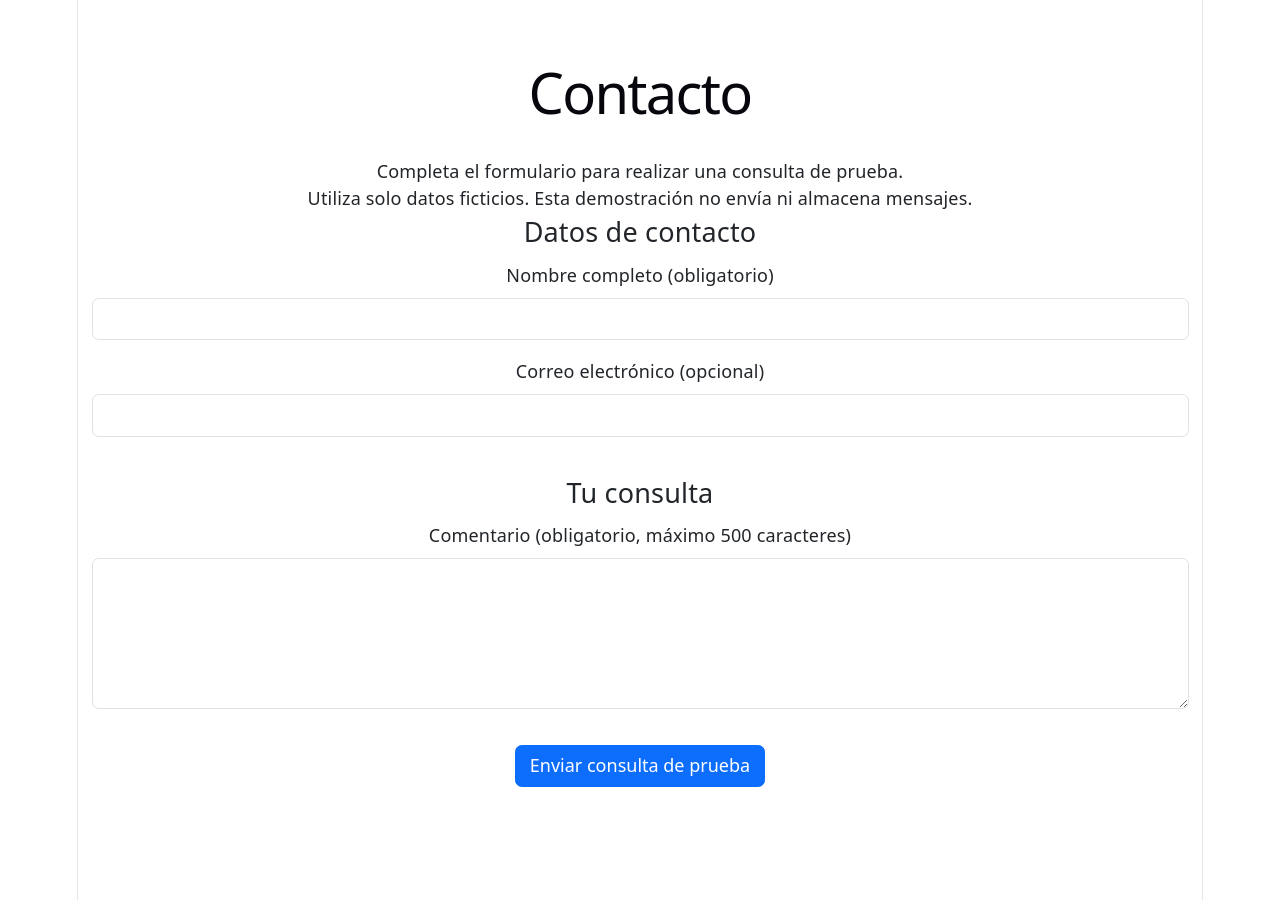
Test: Contacto › muestra errores al enviar vacíos los campos obligatorios
The width and height of the screenshot is (1280, 900).
Click the button "Enviar consulta de prueba" at x=640, y=766, box x1=515 y1=745 x2=765 y2=787
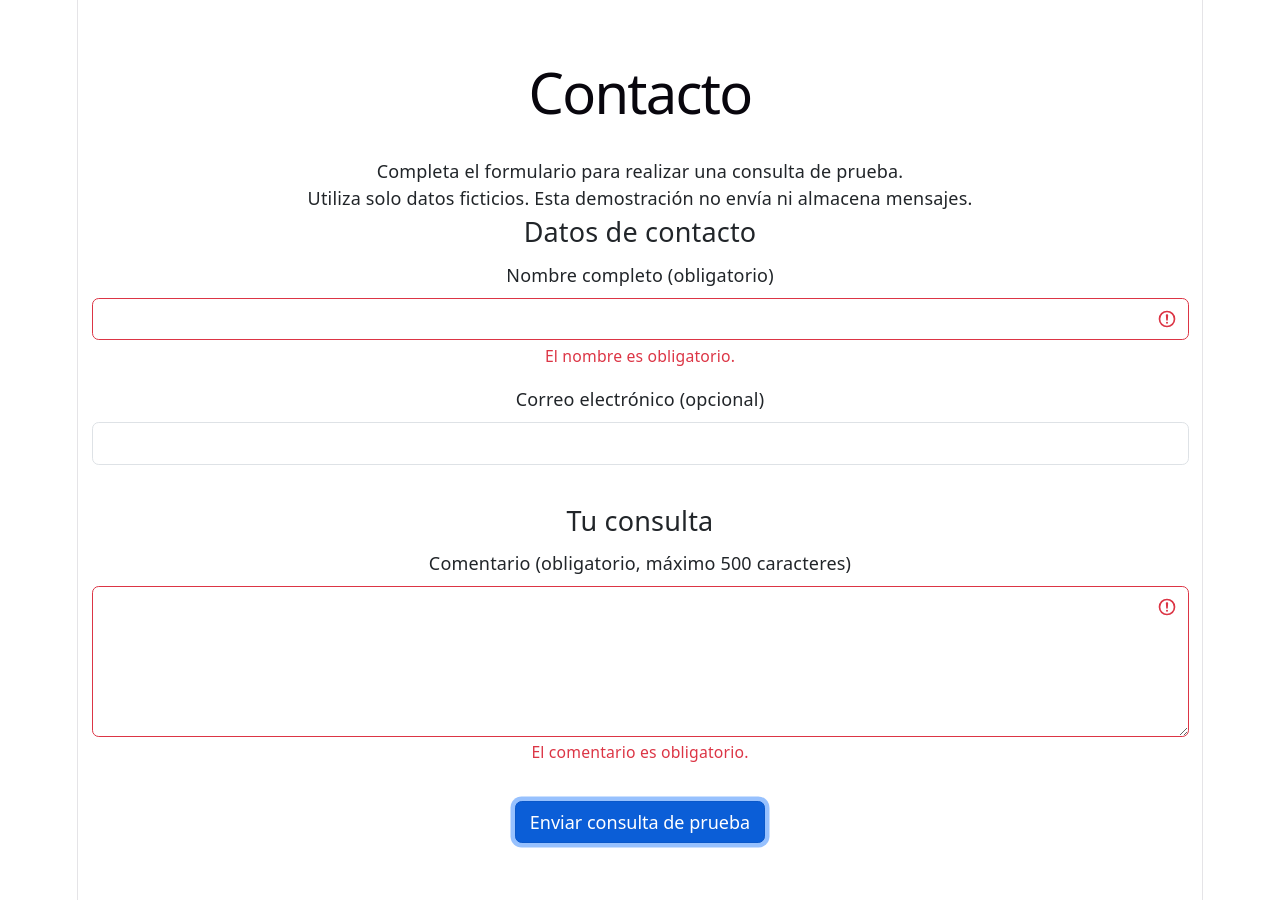
Check: the text "El nombre es obligatorio." is shown, box x1=545 y1=345 x2=735 y2=367
Check: the text "El comentario es obligatorio." is shown, box x1=531 y1=741 x2=749 y2=763
